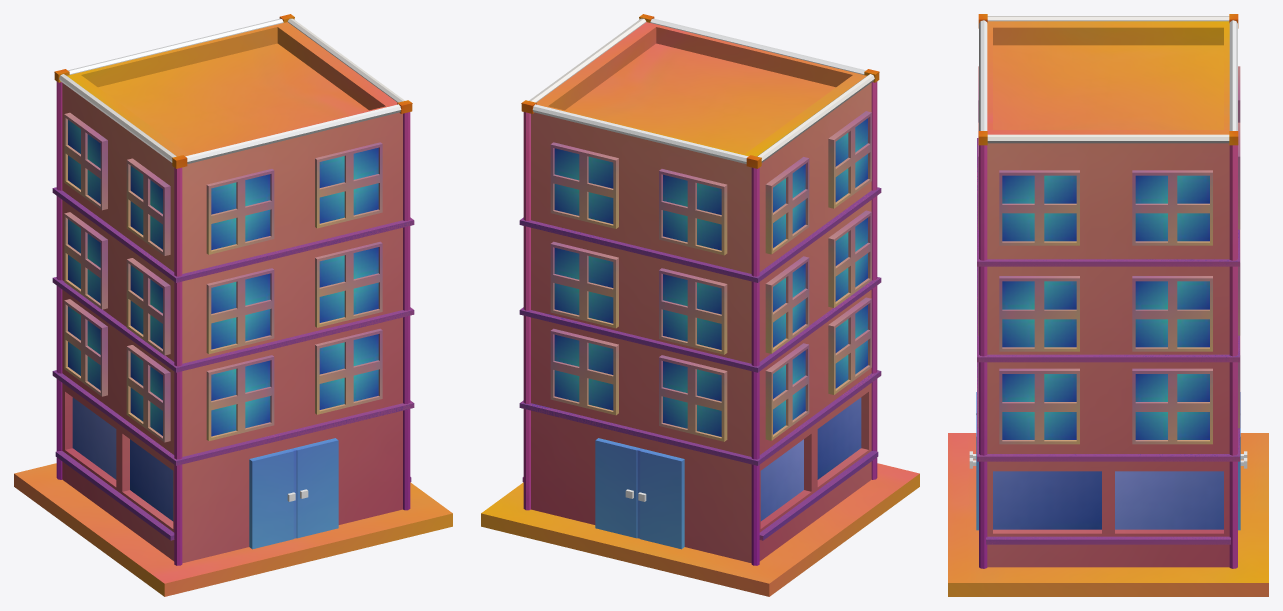
File: House_13.fbx
The picture shows the model from 3 angles, left to right: view 1: azimuth 30°, elevation 25°; view 2: azimuth 150°, elevation 25°; view 3: azimuth 270°, elevation 25°; orthographic projection. The views are drawn at different scales.
Parts seen in each view (by area): view 1: House.13; view 2: House.13; view 3: House.13.
Boxes of the visible parts, left/top/right/bottom form: House.13: left=14, top=14, right=452, bottom=596; House.13: left=481, top=14, right=919, bottom=596; House.13: left=948, top=14, right=1268, bottom=596.
Bounding box in the file's own units: 738 × 1025 × 667.
Materials: 1 (1 with a texture image).
